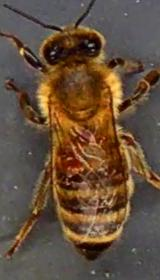varroa_mite: (56, 147, 88, 174)
